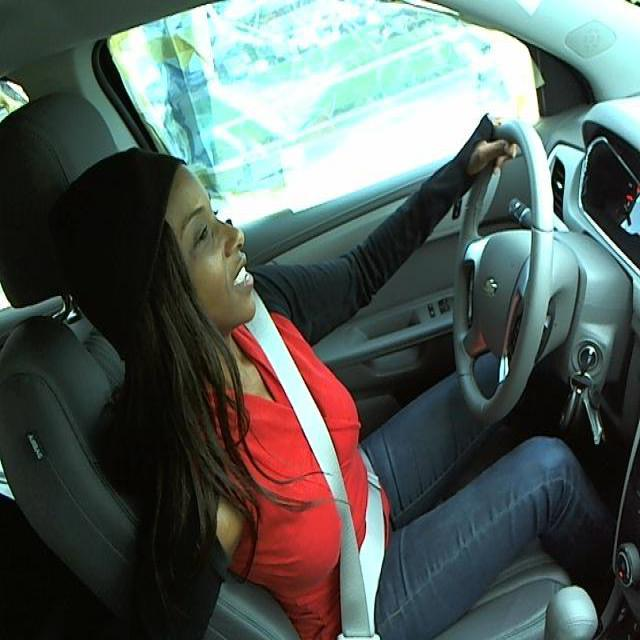seatbelt: (251, 336, 402, 632)
